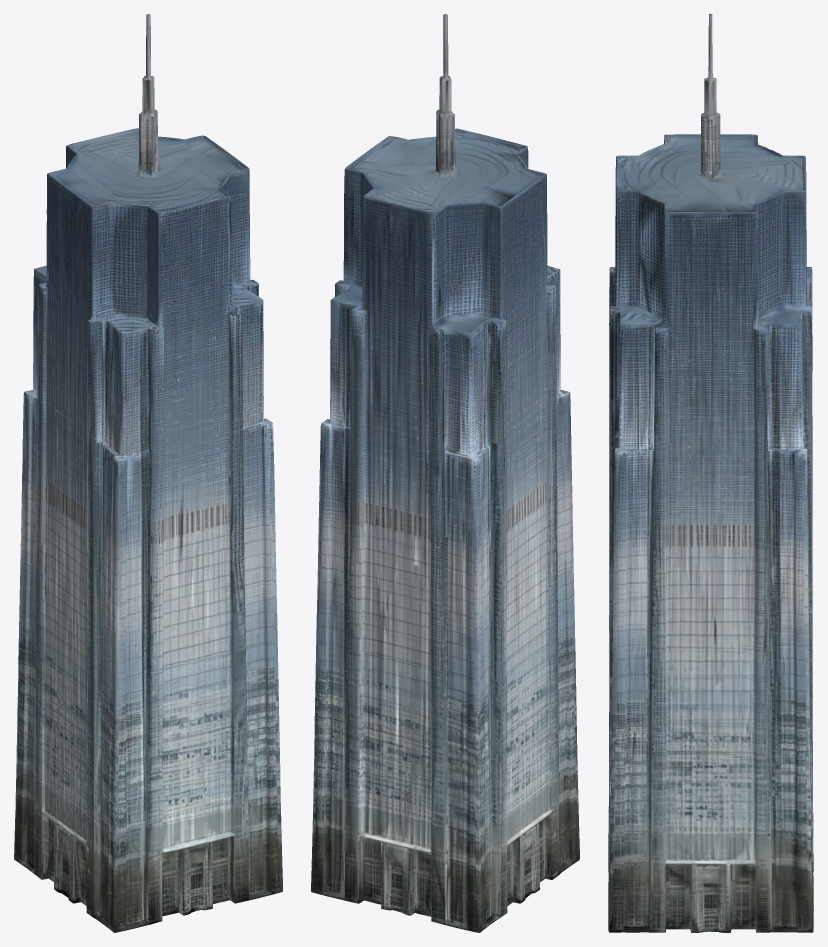
Rendered from office-tower.glb.
3 views of the same model, side by side, from view 1: azimuth 30°, elevation 25°; view 2: azimuth 150°, elevation 25°; view 3: azimuth 270°, elevation 25° (orthographic).
Parts seen in each view (by area): view 1: node_0; view 2: node_0; view 3: node_0.
Boxes of the visible parts, left/top/right/bottom form: node_0: left=14, top=14, right=282, bottom=932; node_0: left=311, top=14, right=579, bottom=932; node_0: left=608, top=14, right=813, bottom=932.
Size of the model in its own units: 0.2381 by 1.15 by 0.245.
1 material, 1 textured.
